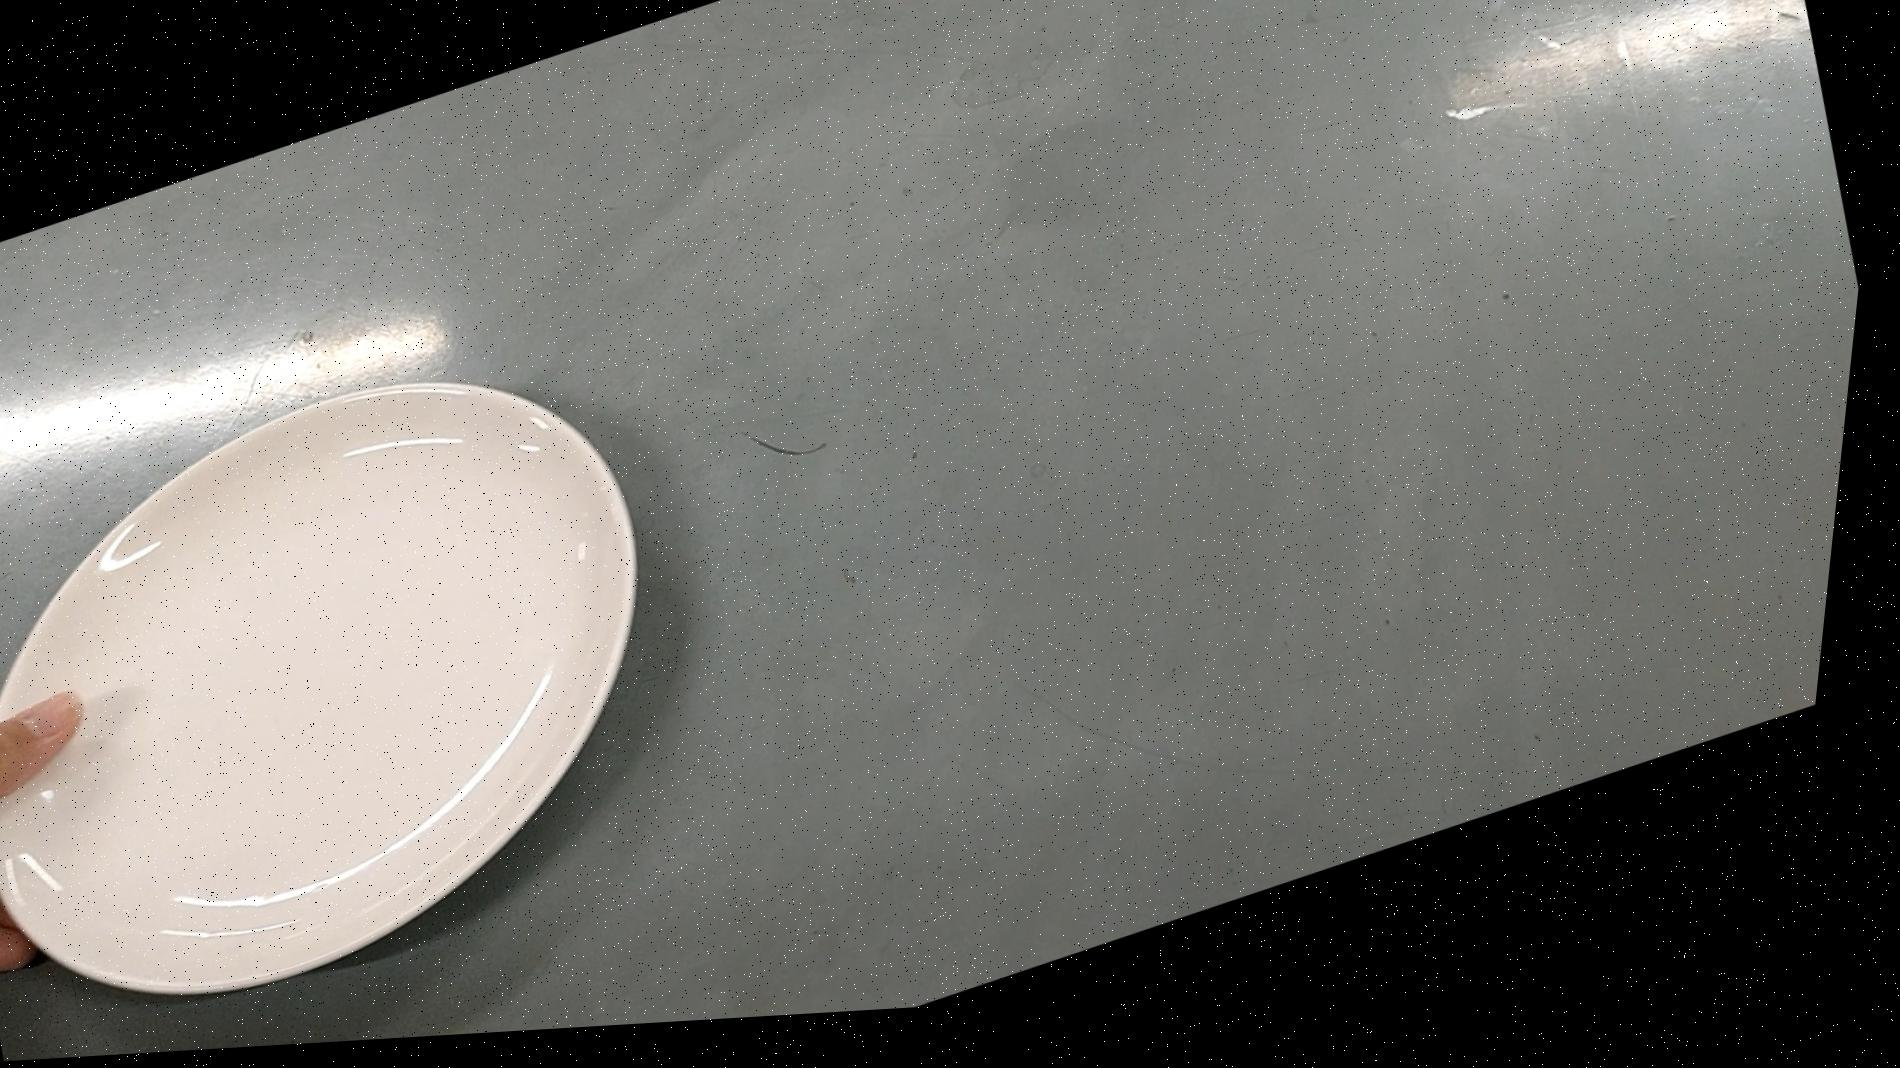plate: (0, 311, 753, 1068)
